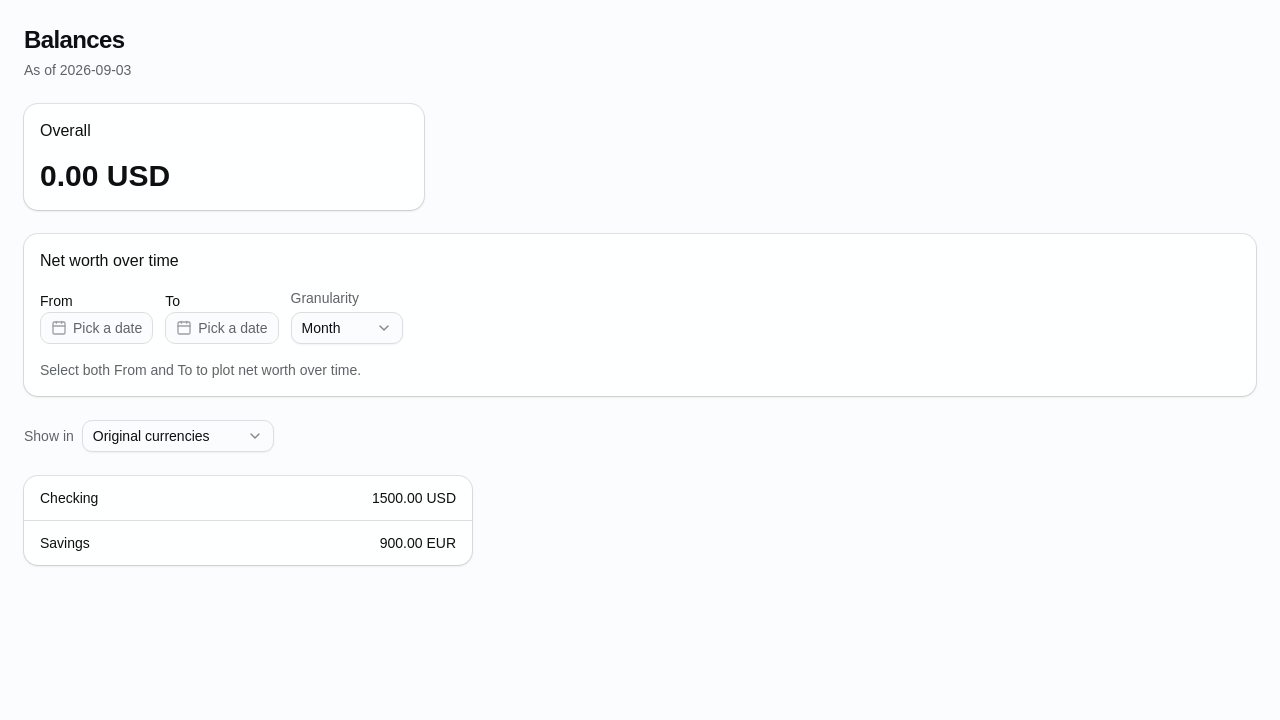
Test: BalancesPage › labels the instance-default currency as the reporting currency when none is explicitly set
The width and height of the screenshot is (1280, 720).
Check: the button "Checking" is shown, box top-left (40, 488), bottom-right (360, 508)
Click the dropdown named "Show in" at (178, 436), box top-left (82, 420), bottom-right (274, 452)
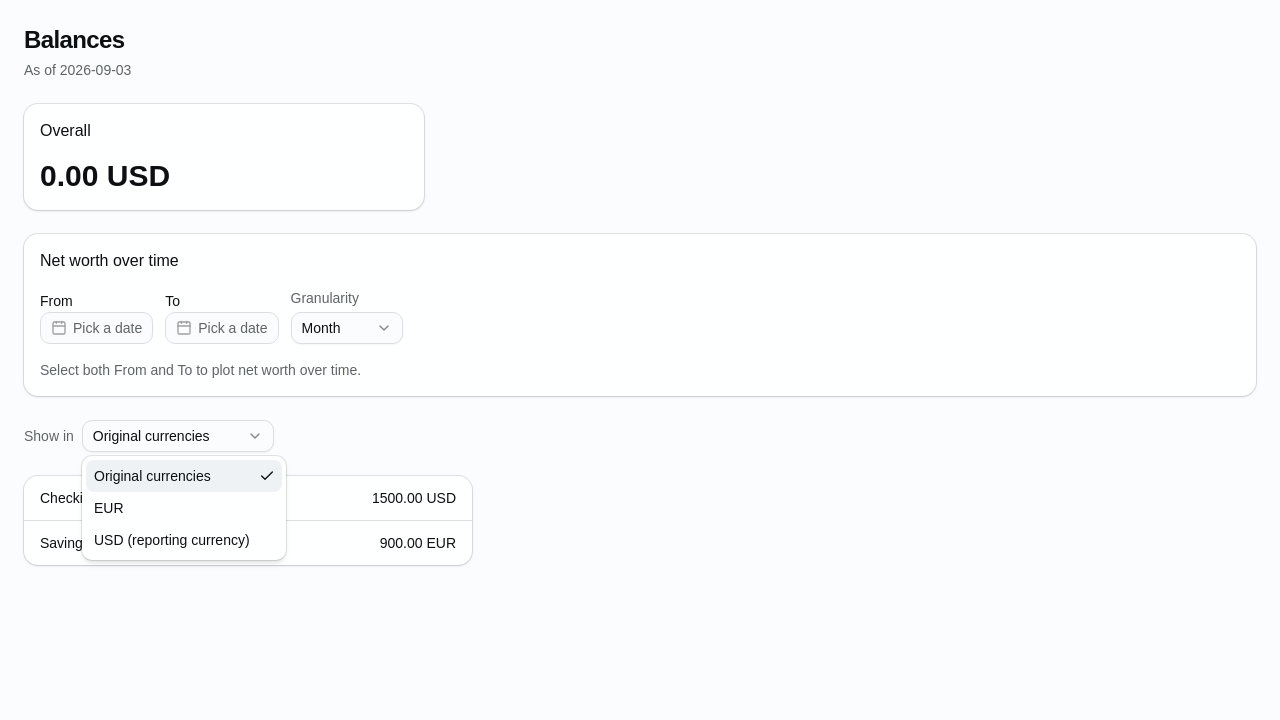
Check: the option "USD (reporting currency)" is shown, box top-left (94, 532), bottom-right (250, 548)
